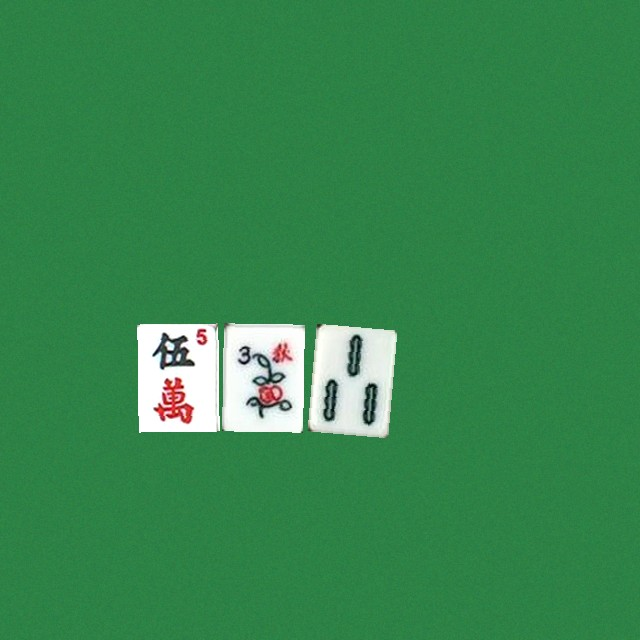tile: (137, 323, 218, 431), (222, 323, 303, 431), (307, 323, 388, 431)
